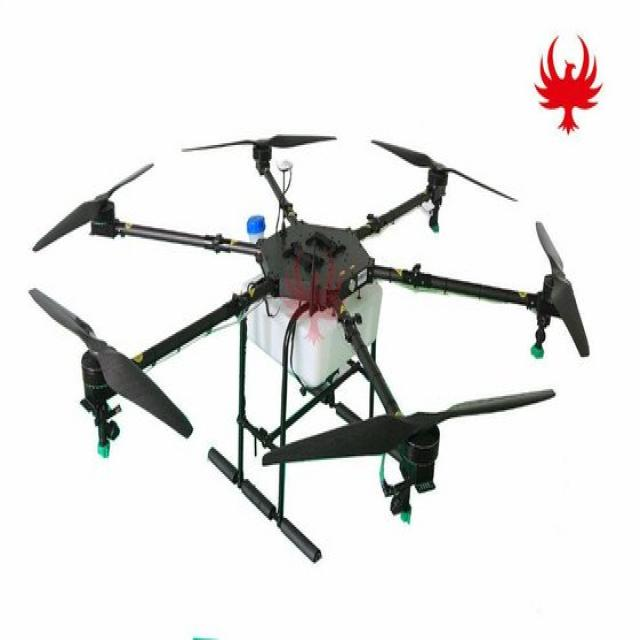drone: (9, 95, 607, 542)
